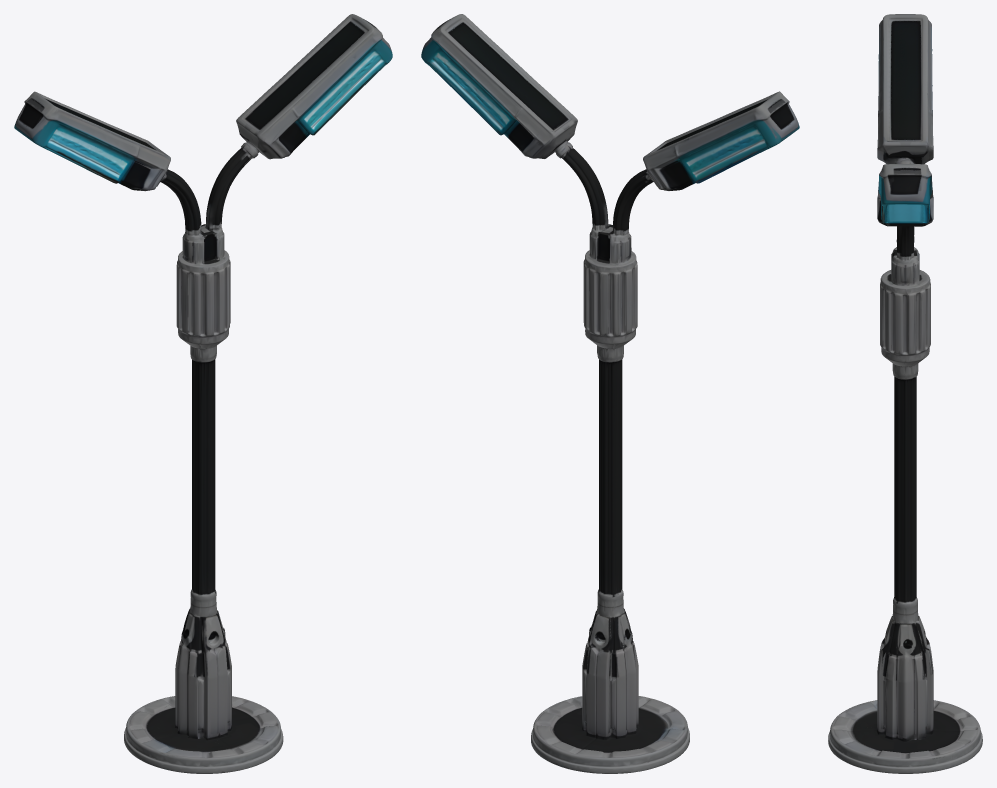
3 renders of one model, left to right at view 1: azimuth 30°, elevation 25°; view 2: azimuth 150°, elevation 25°; view 3: azimuth 270°, elevation 25°, orthographic. The views are drawn at different scales.
Parts seen in each view (by area): view 1: material; view 2: material; view 3: material.
Boxes of the visible parts, x1,y1,x2,y2 form: material: (14, 14, 392, 773); material: (421, 14, 799, 773); material: (828, 14, 982, 773).
Size of the model in its own units: 59.55 by 107 by 23.08.
1 material, 1 textured.
